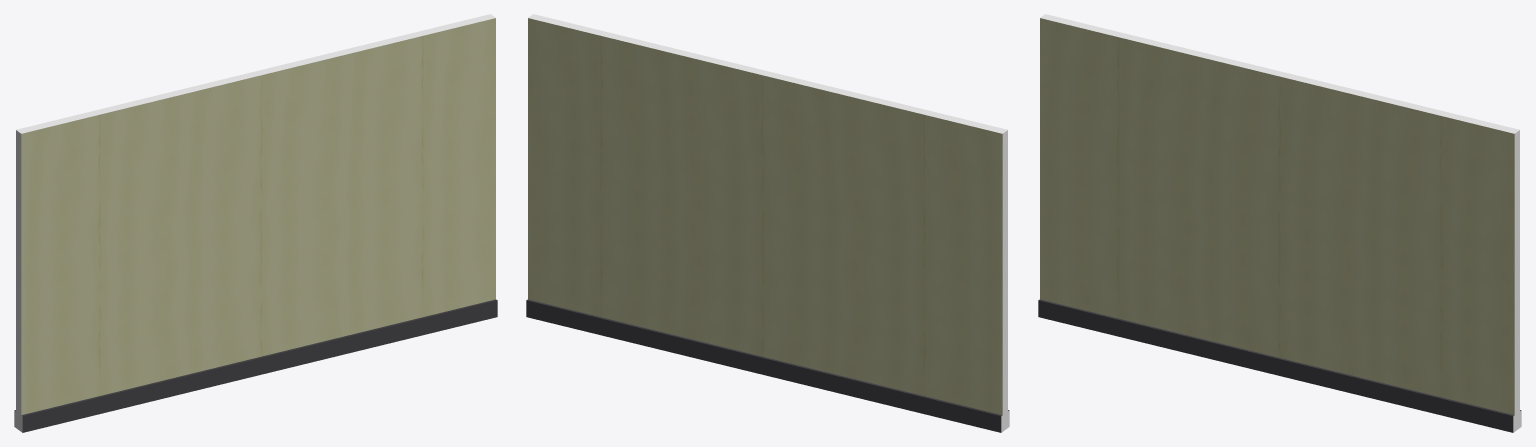
File: SM_Buildings_Wall_5x3_01_DoubleWallpaper.fbx
The picture shows the model from 3 angles, left to right: view 1: azimuth 30°, elevation 25°; view 2: azimuth 150°, elevation 25°; view 3: azimuth 330°, elevation 25°; orthographic projection.
Visible parts, largest first — view 1: SM_Buildings_Wall_5x3_01_DoubleWallpaper; view 2: SM_Buildings_Wall_5x3_01_DoubleWallpaper; view 3: SM_Buildings_Wall_5x3_01_DoubleWallpaper.
Boxes of the visible parts, x1=… form: SM_Buildings_Wall_5x3_01_DoubleWallpaper: x1=14, y1=14, x2=497, y2=432; SM_Buildings_Wall_5x3_01_DoubleWallpaper: x1=526, y1=14, x2=1009, y2=432; SM_Buildings_Wall_5x3_01_DoubleWallpaper: x1=1038, y1=14, x2=1521, y2=432.
Bounding box in the file's own units: 500 × 300 × 15.
Materials: 1 (1 with a texture image).
